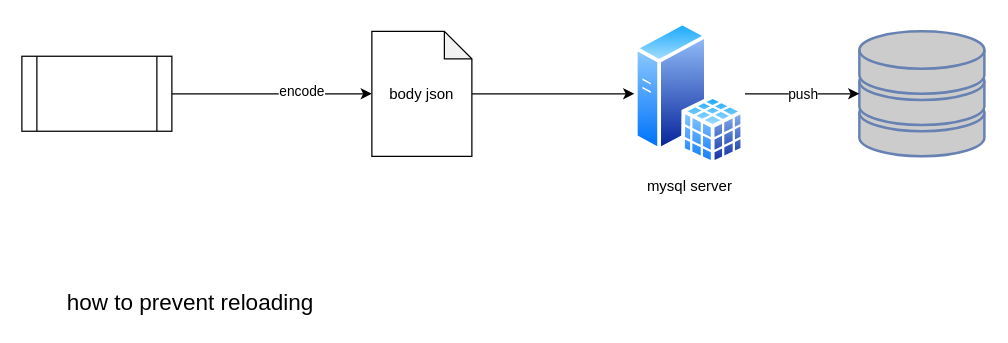
Some shapes in this 1008 by 343 pixel diagram are drawn without their labels. The shapes that lost their labels are listed below. From the top down, each one's centre as x and y in pixels, then its label:
point 96,93: body data
point 921,93: data base
